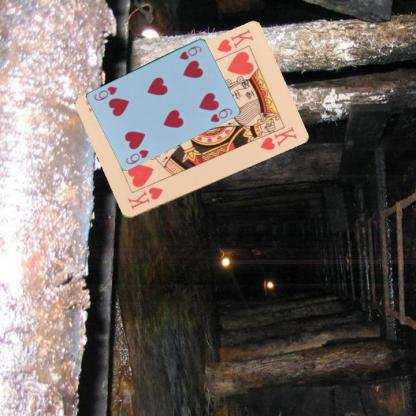6h: (177, 42, 203, 61), (123, 147, 150, 165)
Kh: (214, 27, 255, 54), (125, 184, 164, 211)
